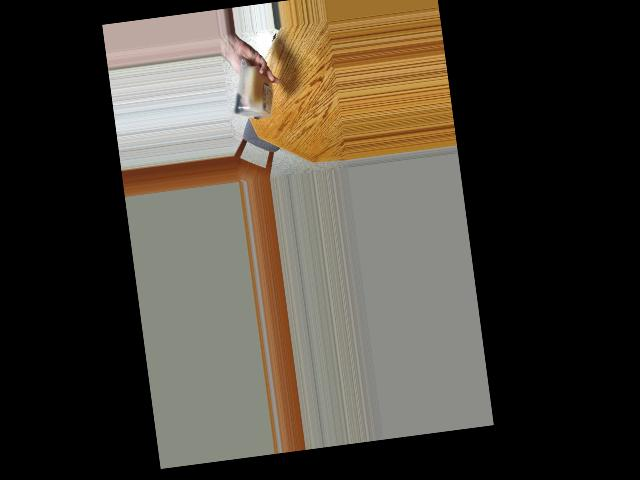cheese: (229, 61, 279, 124)
